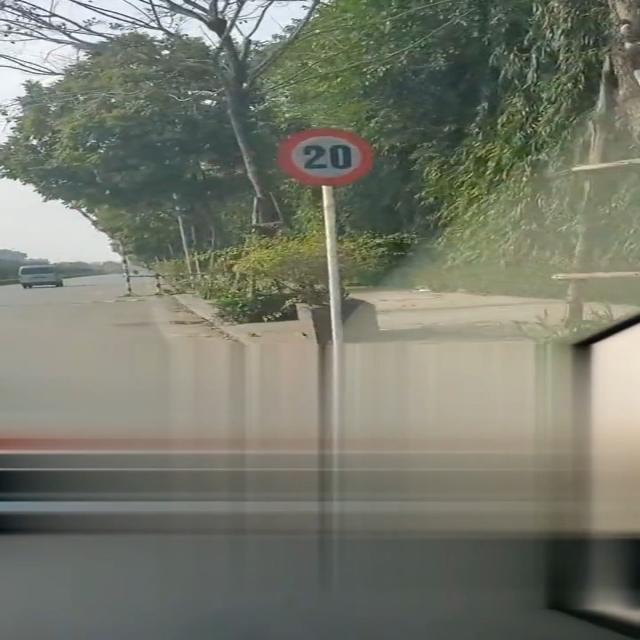127-toc-do-toi-da-20: (280, 128, 375, 185)
